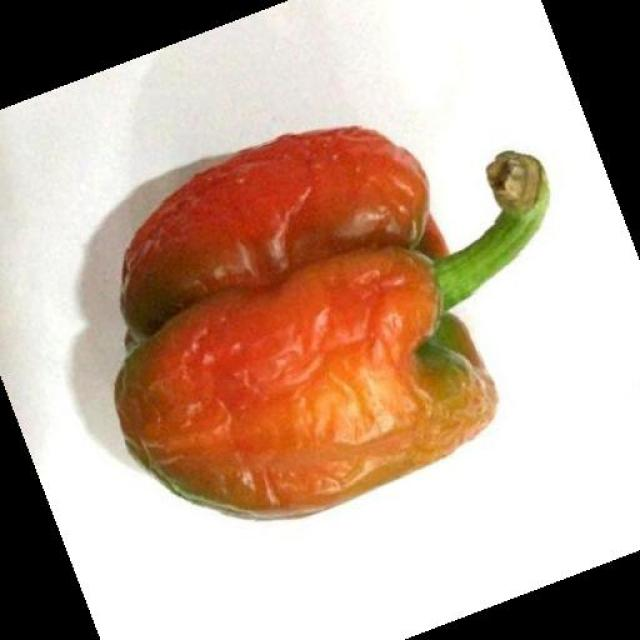Stale_Capsicum: (90, 125, 555, 505)
